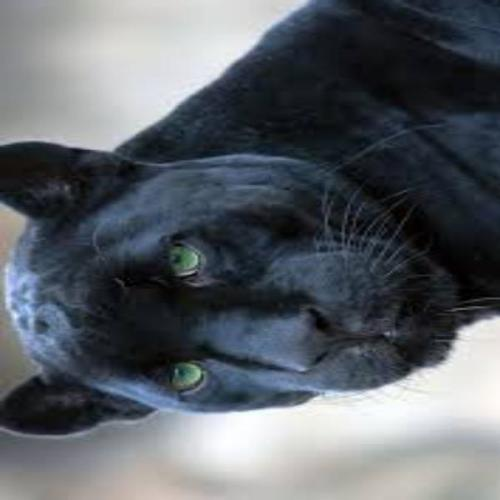panther-endangered: (0, 0, 500, 423)
